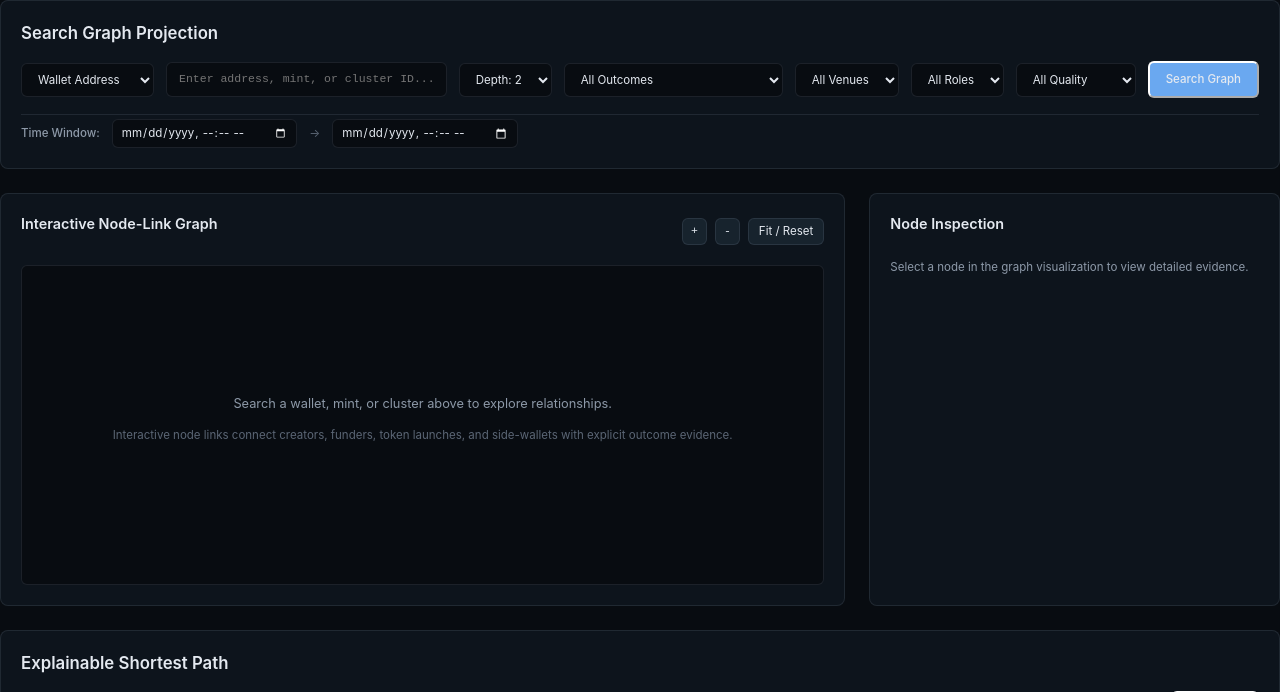
Scenario: WalletGraphExplorer › renders relationship evidence as candidate-only corroboration
The image size is (1280, 692).
Type "11111111111111111111111111111112" into the field with placeholder "Enter address, mint, or cluster ID...". click: (306, 80)
box: [166, 62, 447, 97]
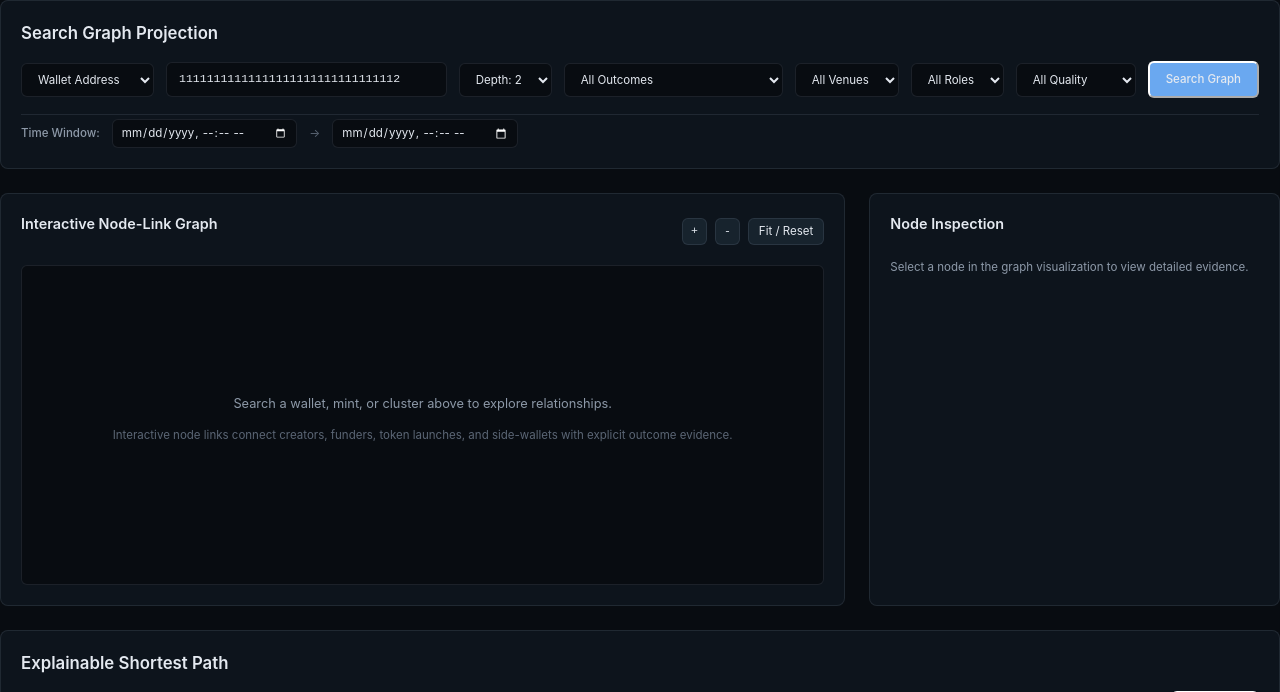
Click the button "Search Graph". click: (1203, 80)
box: [1148, 61, 1259, 98]
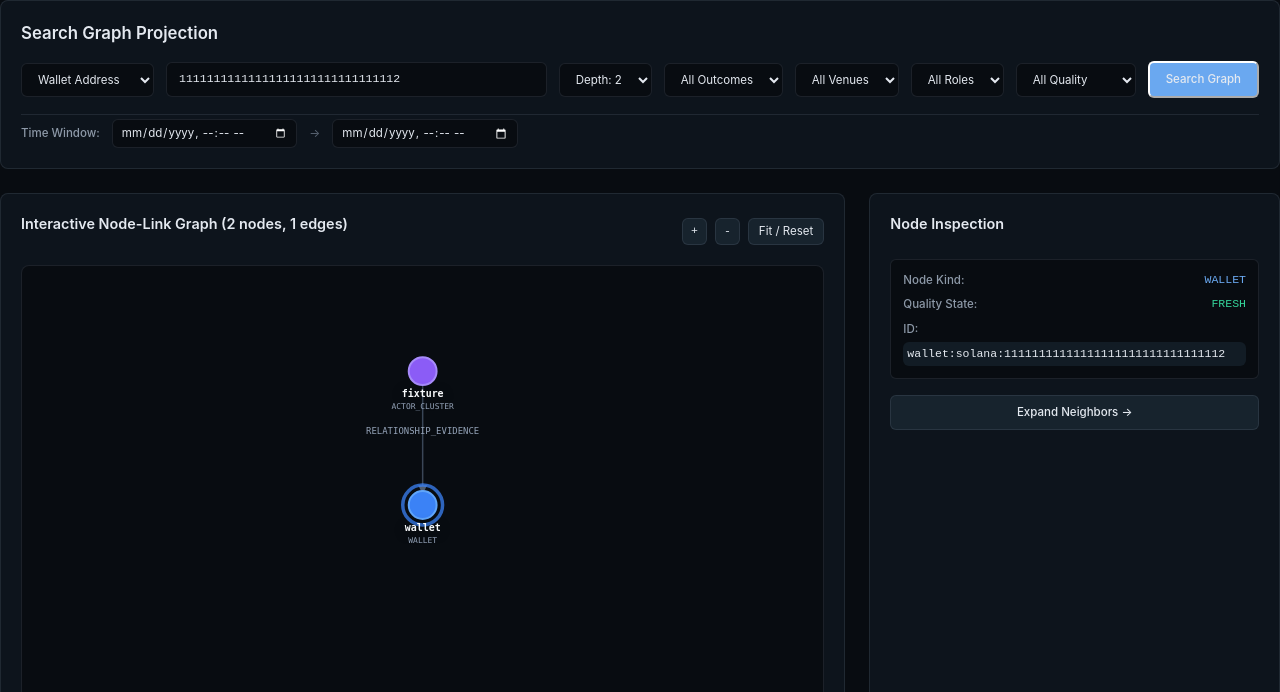
expect the text "wallet:solana:11111111111111111111111111111112" is shown: met, box [903, 342, 1246, 366]
